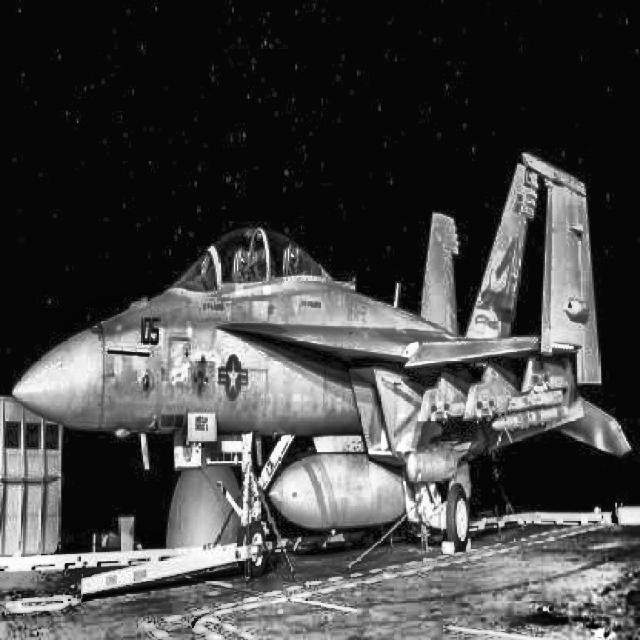F18: (11, 152, 632, 578)
